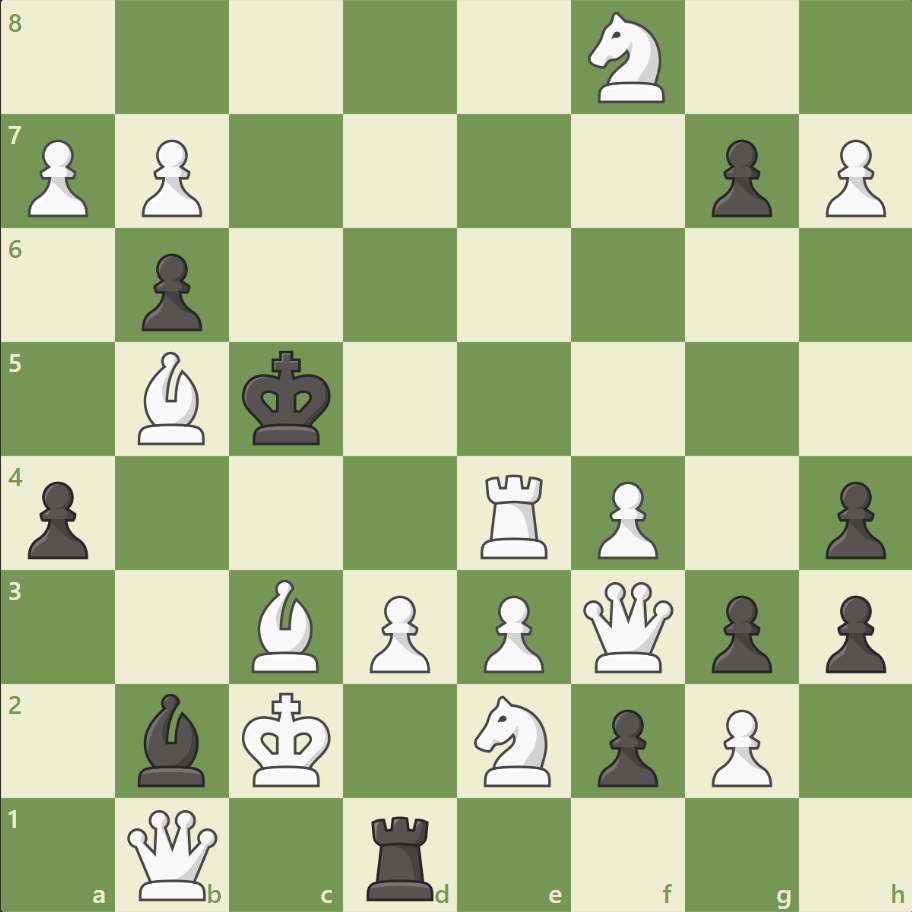B: (131, 347, 215, 449), (244, 574, 328, 676)
K: (238, 685, 338, 793)
N: (579, 7, 676, 110), (465, 688, 562, 791)
P: (20, 132, 95, 223), (133, 132, 208, 223), (474, 586, 549, 677), (701, 700, 776, 791), (815, 132, 889, 223), (588, 473, 662, 564), (361, 586, 435, 677)
Q: (578, 576, 677, 676), (124, 804, 223, 903)
R: (473, 466, 556, 563)
b: (131, 687, 215, 790)
k: (238, 344, 338, 452)
p: (701, 132, 776, 223), (133, 246, 208, 337), (20, 473, 95, 564), (701, 586, 776, 677), (815, 473, 889, 564), (815, 586, 889, 677), (588, 700, 662, 791)
r: (360, 806, 442, 904)
